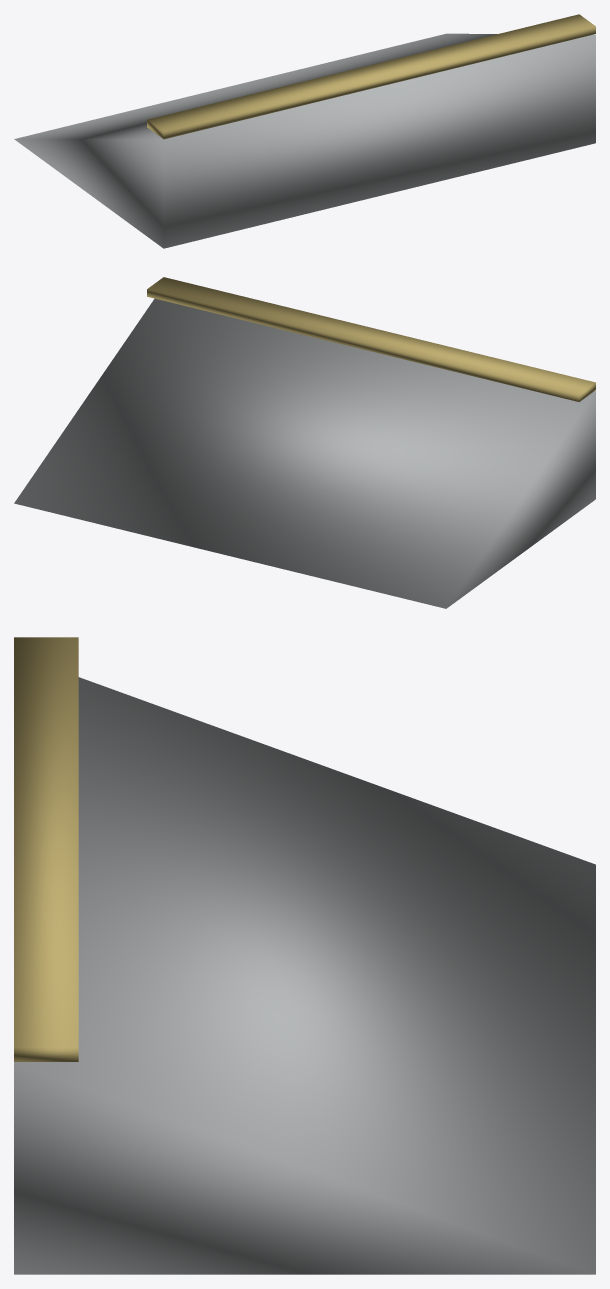
The model's file is curb_ramp_yellow_w150_h36_r90.glb.
3 views of the same model, one above another, from view 1: azimuth 30°, elevation 25°; view 2: azimuth 150°, elevation 25°; view 3: azimuth 270°, elevation 25° (orthographic). The views are drawn at different scales.
Parts seen in each view (by area): view 1: world; view 2: world; view 3: world.
Part boxes in pixels (left/top/right/bottom): world: left=14, top=14, right=595, bottom=248; world: left=14, top=277, right=595, bottom=608; world: left=14, top=637, right=595, bottom=1274.
Size of the model in its own units: 1.5 by 0.3875 by 0.9.
